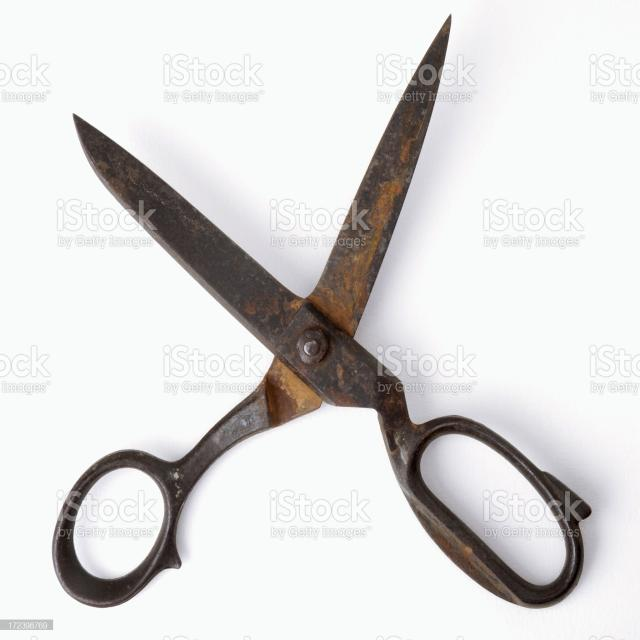scissor: (33, 11, 602, 614)
